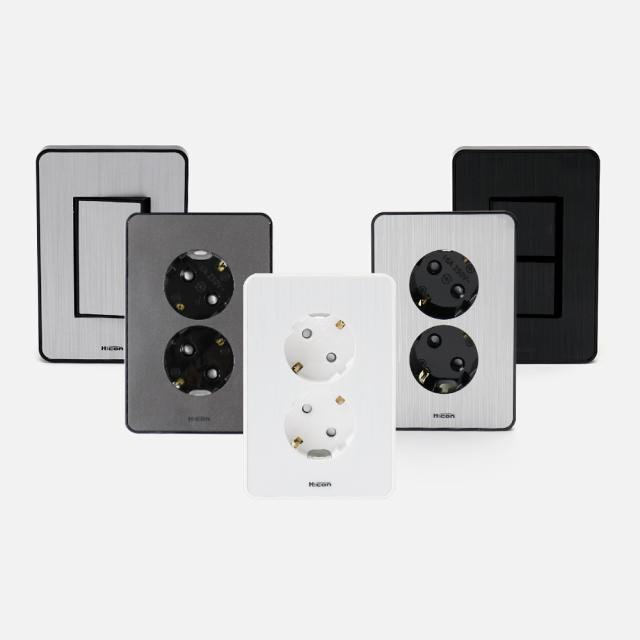typeb: (264, 269, 384, 501), (399, 196, 508, 444), (136, 220, 238, 433)
